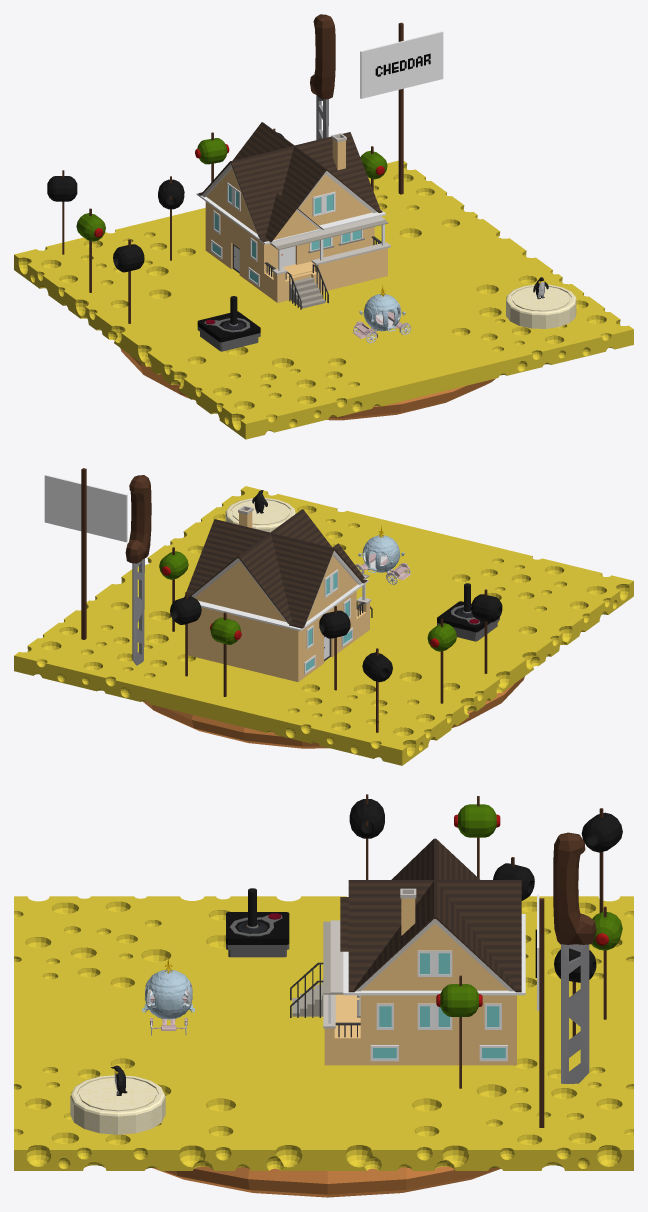
The picture shows the model from 3 angles, top to bottom: view 1: azimuth 30°, elevation 25°; view 2: azimuth 150°, elevation 25°; view 3: azimuth 270°, elevation 25°; orthographic projection. The views are drawn at different scales.
Parts seen in each view (by area): view 1: Cube.022, Cube.235, Cube.023, Cylinder.016, Cube.024, UNDERGROUND_PIZZA, OBJRANDOM_JOYSTICK, VEHICLES_FANTASY_CARRIAGE, Sphere.017, Sphere.016, Sphere.018, Sphere.022 (+2 smaller); view 2: Cube.022, Cube.235, Cube.023, Cube.024, UNDERGROUND_PIZZA, VEHICLES_FANTASY_CARRIAGE, OBJRANDOM_JOYSTICK, Cylinder.016, Sphere.017, Sphere.022, Sphere.020, Sphere.021 (+3 smaller); view 3: Cube.022, Cube.235, Cube.024, UNDERGROUND_PIZZA, Cylinder.016, OBJRANDOM_JOYSTICK, VEHICLES_FANTASY_CARRIAGE, Cube.023, Sphere.016, Sphere.019, Sphere.018, Sphere.017 (+3 smaller).
Part boxes in pixels (x1,y1,x2,y2): Cube.022: (14,160,633,439); Cube.235: (196,122,390,309); Cube.023: (360,22,443,194); Cylinder.016: (506,284,576,328); Cube.024: (310,14,335,139); UNDERGROUND_PIZZA: (120,348,495,420); OBJRANDOM_JOYSTICK: (197,296,260,351); VEHICLES_FANTASY_CARRIAGE: (352,284,410,343); Sphere.017: (113,239,144,323); Sphere.016: (47,170,77,254); Sphere.018: (76,208,105,292); Sphere.022: (195,132,229,181); Cube.022: (14,486,633,765); Cube.235: (183,505,372,681); Cube.023: (44,468,127,639); Cube.024: (125,475,151,665); UNDERGROUND_PIZZA: (143,676,524,748); VEHICLES_FANTASY_CARRIAGE: (355,526,411,584); OBJRANDOM_JOYSTICK: (437,583,499,641); Cylinder.016: (225,498,295,532); Sphere.017: (471,589,502,673); Sphere.022: (210,612,241,696); Sphere.020: (319,606,350,690); Sphere.021: (170,592,201,676); Cube.022: (14,896,633,1170); Cube.235: (290,838,525,1065); Cube.024: (553,832,596,1083); UNDERGROUND_PIZZA: (152,1166,500,1197); Cylinder.016: (70,1075,165,1134); OBJRANDOM_JOYSTICK: (226,888,289,957); VEHICLES_FANTASY_CARRIAGE: (142,958,194,1035); Cube.023: (535,894,544,1127); Sphere.016: (581,808,622,912); Sphere.019: (436,975,482,1088); Sphere.018: (454,796,500,878); Sphere.017: (349,794,384,879).
Bounding box in the file's own units: 3917 × 2219 × 4000.
Materials: 41 (3 with a texture image).
